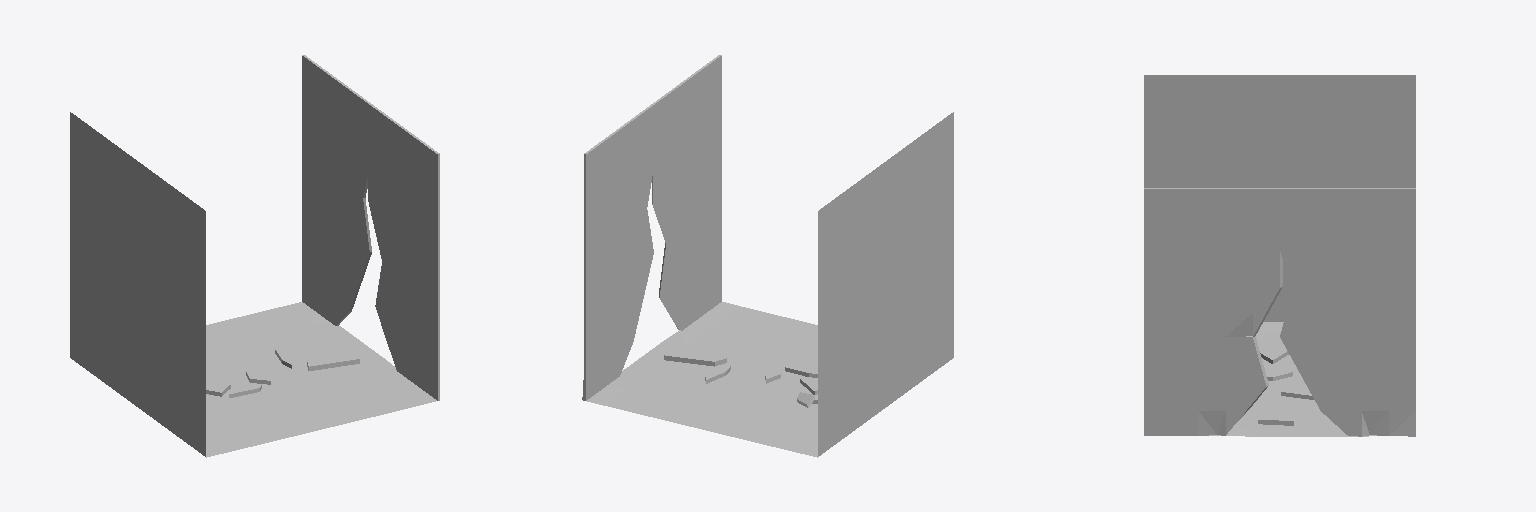
The model's file is crackedWall.obj.
3 views of the same model, side by side, from view 1: azimuth 30°, elevation 25°; view 2: azimuth 150°, elevation 25°; view 3: azimuth 270°, elevation 25° (orthographic).
Parts seen in each view (by area): view 1: polySurface4; view 2: polySurface4; view 3: polySurface4.
Boxes of the visible parts, <box> form: polySurface4: <box>70,55,439,457</box>; polySurface4: <box>582,55,953,457</box>; polySurface4: <box>1144,75,1415,436</box>.
Bounding box in the file's own units: 79.99 × 80.07 × 80.